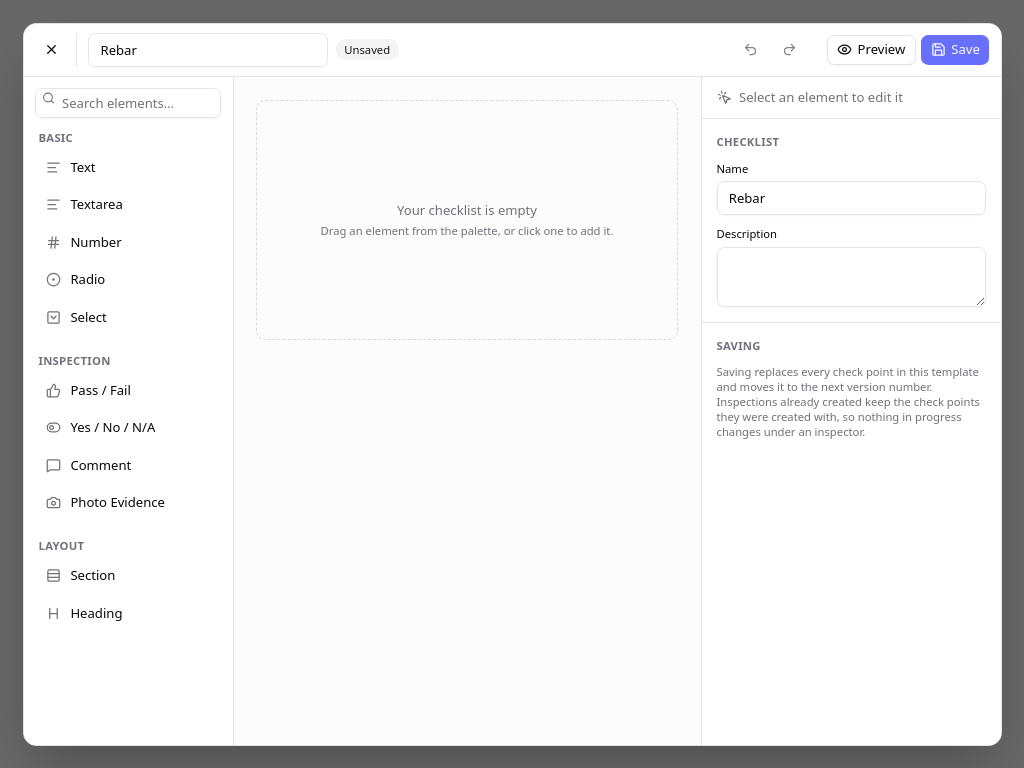
it: ChecklistBuilder save › the Close button still asks before discarding unsaved edits
The width and height of the screenshot is (1024, 768).
Click the button named "Close builder" at [52, 50], box [35,33,69,67]
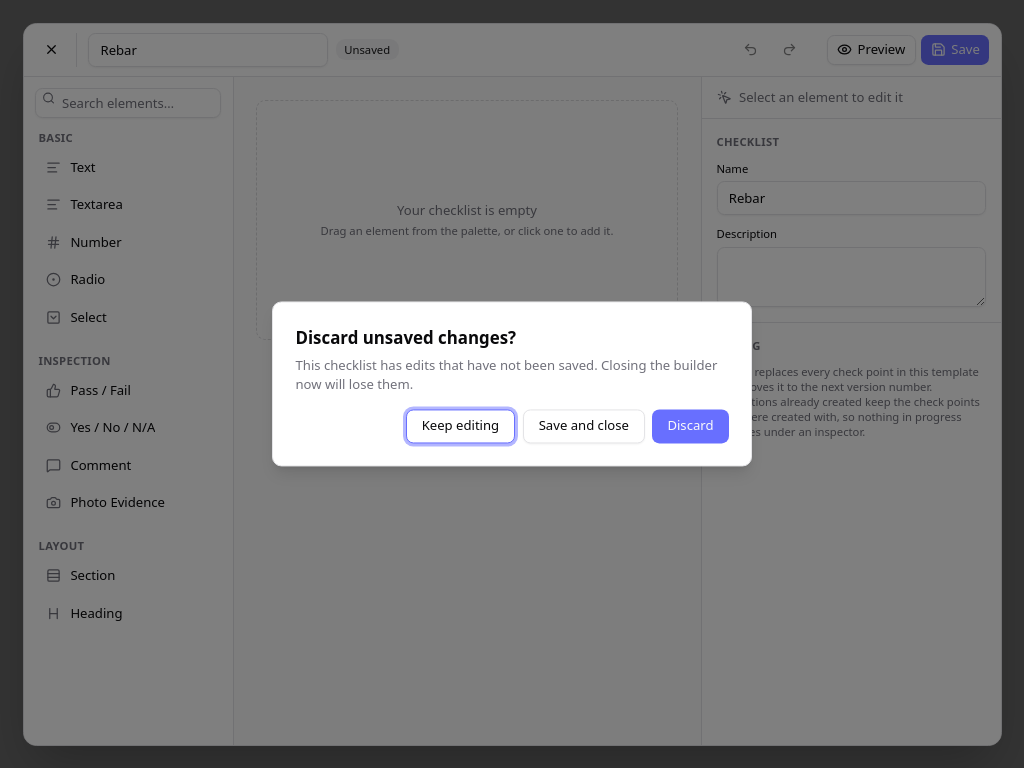
Expected: the heading "Discard unsaved changes?" is shown, [296,325,516,351]
